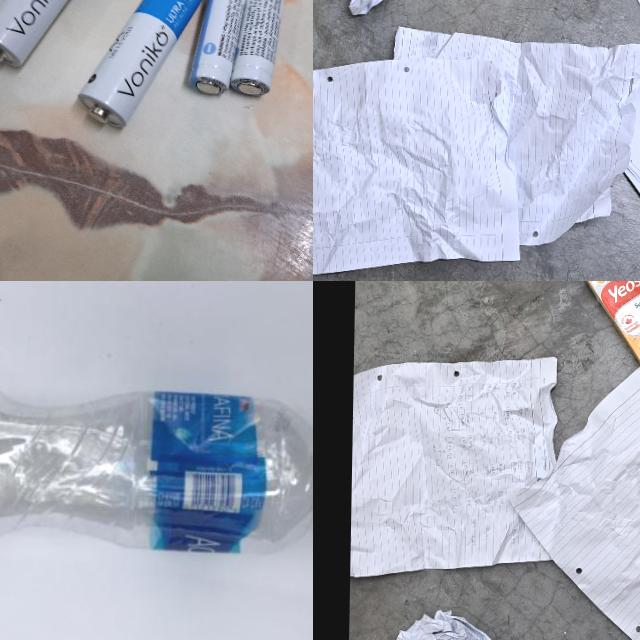bateria: (72, 0, 212, 131), (0, 0, 114, 69), (188, 0, 253, 96), (228, 0, 291, 96)
caixinha: (563, 281, 640, 360)
garrafa plástica: (0, 380, 313, 560)
papel: (313, 25, 640, 281), (350, 355, 561, 584), (503, 353, 640, 640), (393, 607, 502, 640)
